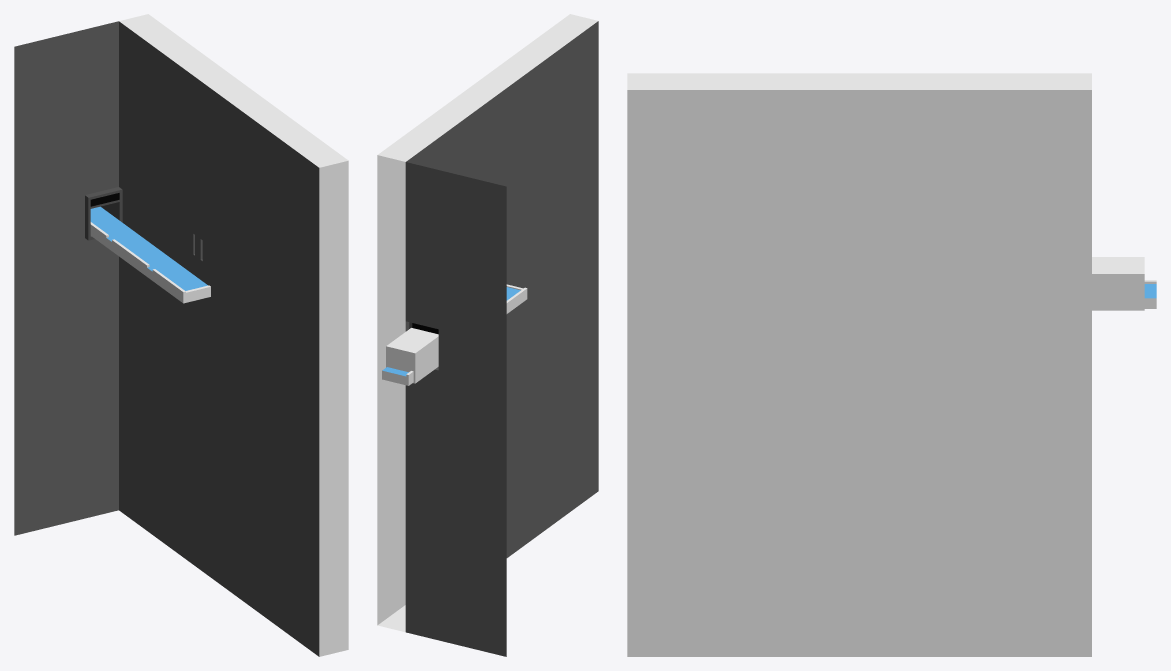
The model's file is Dest_PowerPlant_Wall.FBX.
3 renders of one model, left to right at view 1: azimuth 30°, elevation 25°; view 2: azimuth 150°, elevation 25°; view 3: azimuth 270°, elevation 25°, orthographic. The views are drawn at different scales.
Visible parts, largest first — view 1: Box005; view 2: Box005; view 3: Box005.
Boxes of the visible parts, bbox=[...] form: Box005: bbox=[14, 14, 348, 656]; Box005: bbox=[377, 14, 598, 656]; Box005: bbox=[627, 73, 1156, 656].
Size of the model in its own units: 250 by 871 by 737.
